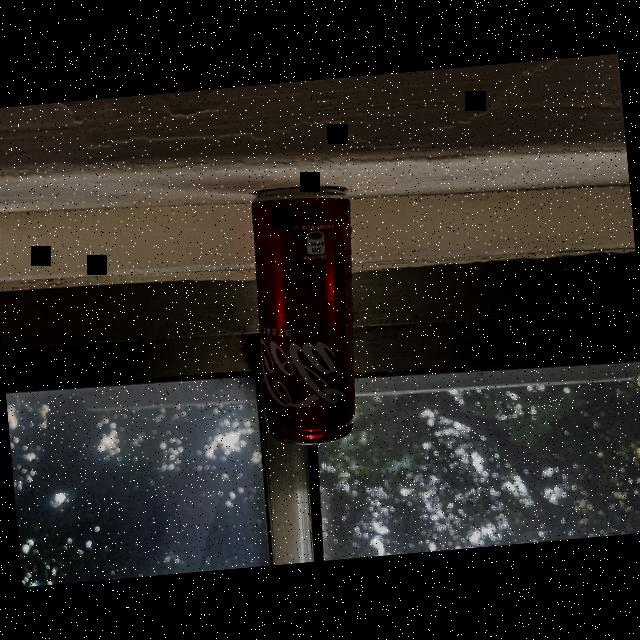can: (238, 186, 376, 454)
